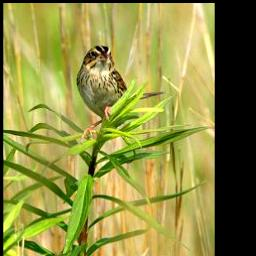Sparrow: (75, 43, 166, 147)
